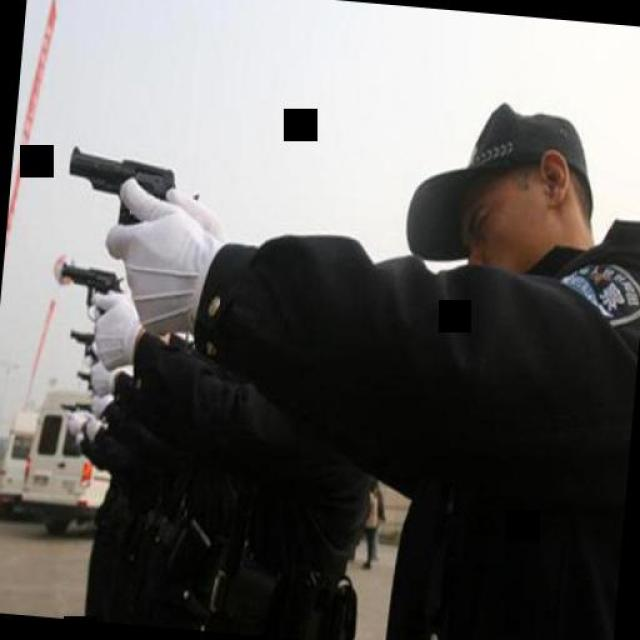gun: (64, 142, 202, 232), (54, 255, 128, 319), (64, 325, 104, 367), (71, 370, 95, 391), (71, 398, 89, 414)
